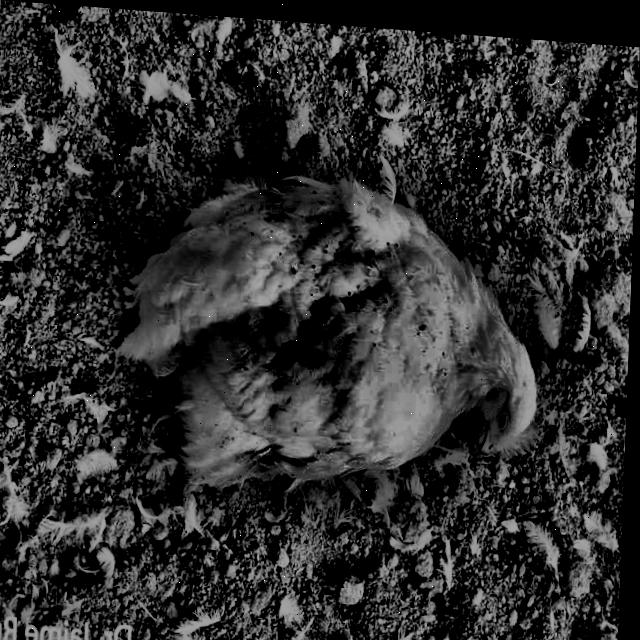Newcastle: (129, 158, 552, 498)
